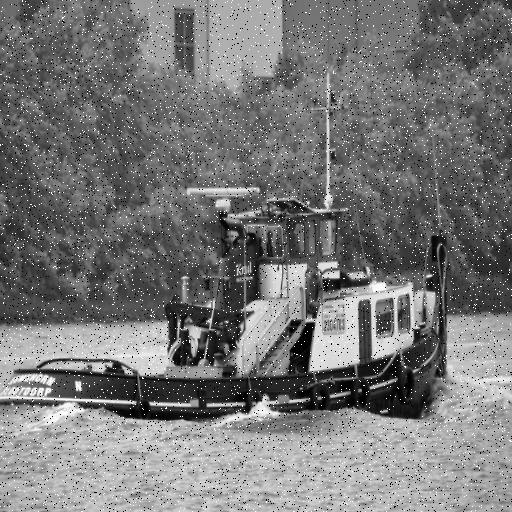tugboat: (1, 183, 458, 439)
